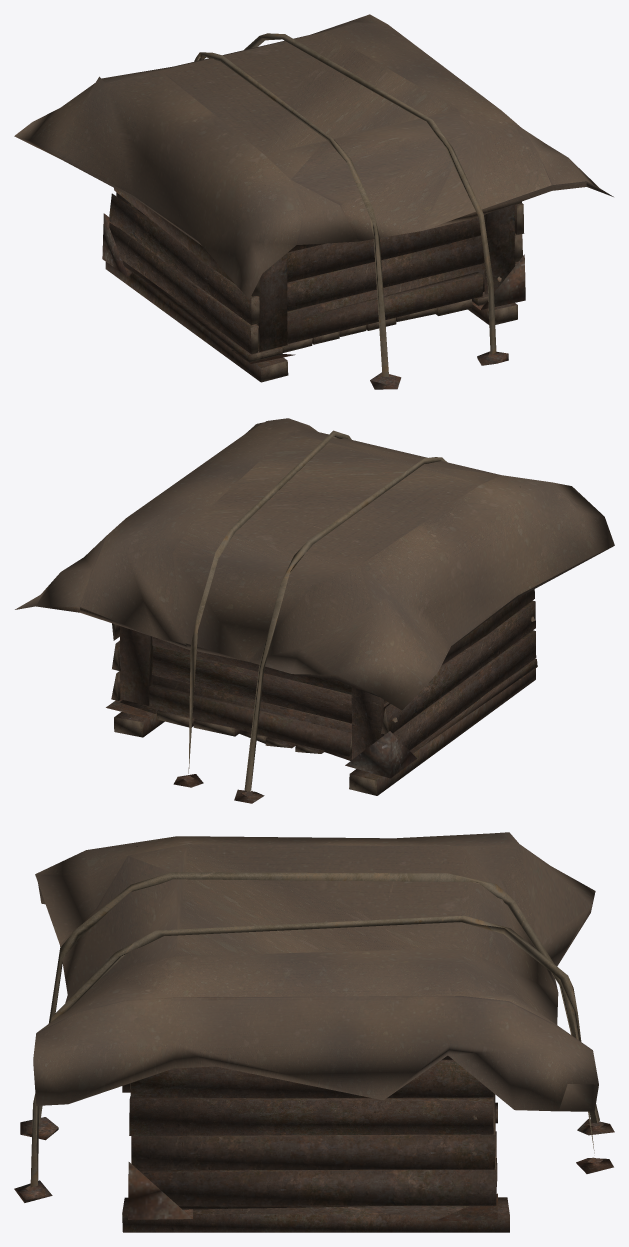
File: crate_roped.fbx
3 views of the same model, one above another, from view 1: azimuth 30°, elevation 25°; view 2: azimuth 150°, elevation 25°; view 3: azimuth 270°, elevation 25° (orthographic). The views are drawn at different scales.
Parts seen in each view (by area): view 1: SM_Crate_Roped; view 2: SM_Crate_Roped; view 3: SM_Crate_Roped.
Part boxes in pixels (box(x1,y1,x2,y2)): SM_Crate_Roped: box(14, 14, 613, 389); SM_Crate_Roped: box(15, 418, 614, 803); SM_Crate_Roped: box(14, 832, 614, 1232).
Bounding box in the file's own units: 16.37 × 8.56 × 17.92.
